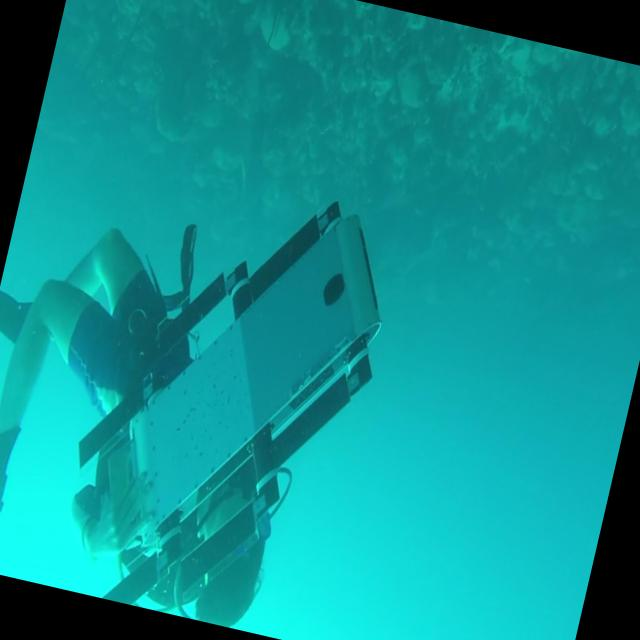human: (0, 131, 407, 640)
